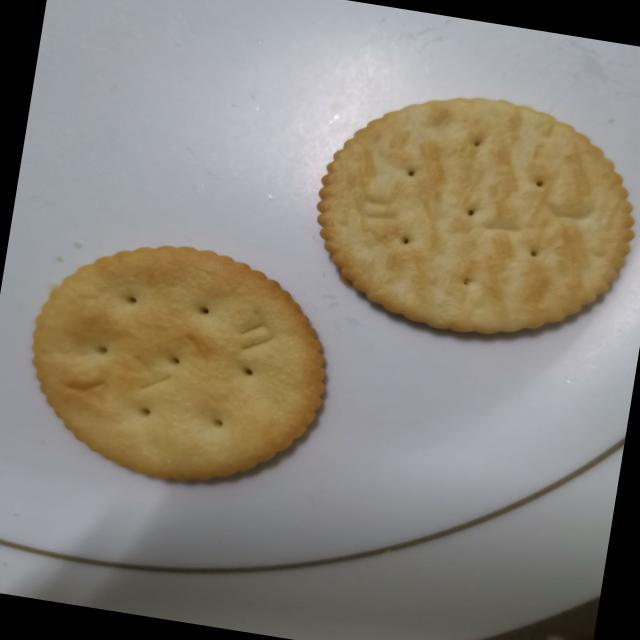intact biscuit: (298, 71, 640, 358), (11, 222, 346, 504)
